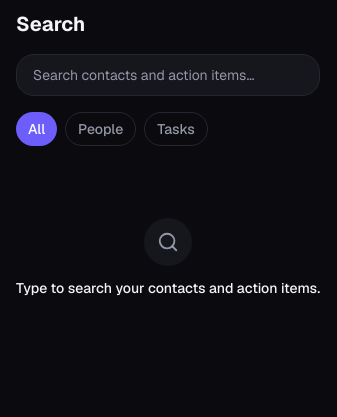
Scenario: SearchPage › debounces search input and ignores a stale out-of-order response
The width and height of the screenshot is (337, 417).
In the field with placeholder "Search contacts and action items…": (168, 75) [16, 54, 320, 96], type "sm"
Wait 300 ms
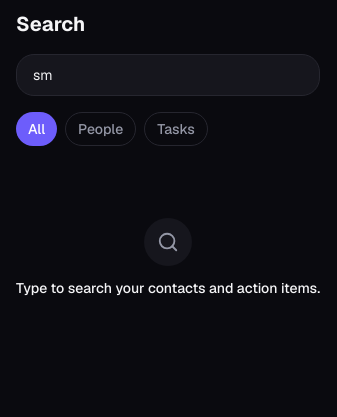
Replace the text in the field with placeholder "Search contacts and action items…" with "smi": (168, 75) [16, 54, 320, 96]
Wait 300 ms
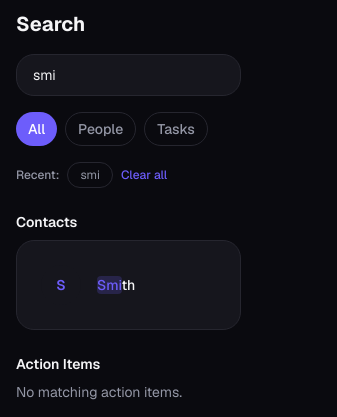
Result: the link "Smith" is shown at [97, 276, 135, 294]
